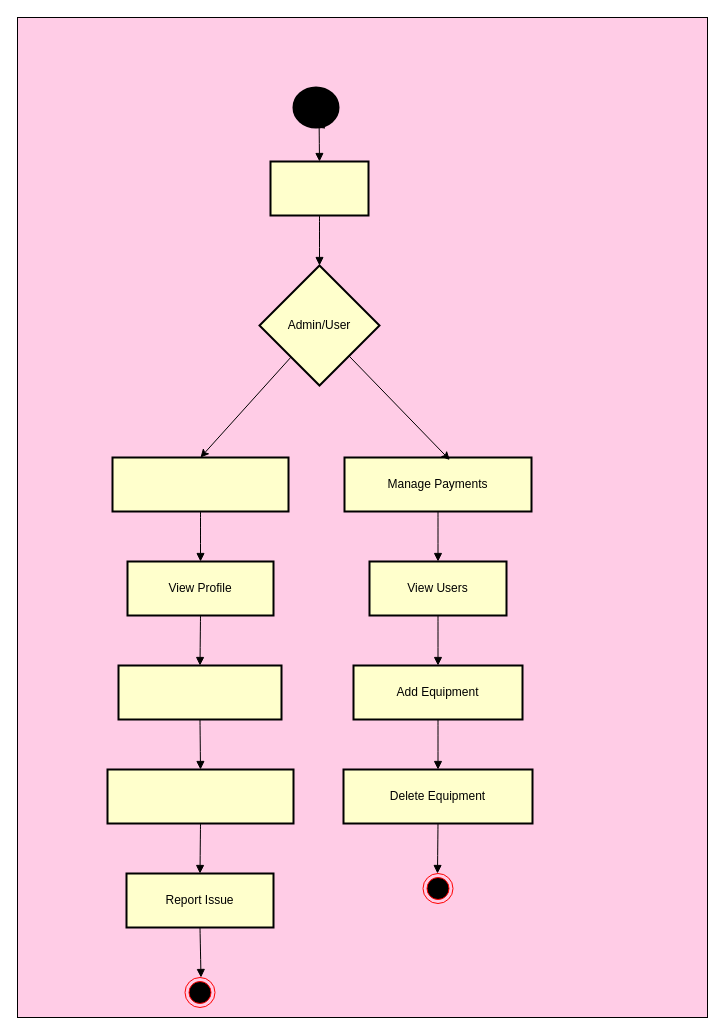
Some shapes in this 725 by 1035 pixel diagram are drawn without their labels. The shapes that lost their labels are listed below. From the top down, each one's box as (x1, y1, x2, y2) in pixels, then its label:
(269, 160, 369, 216): Login
(111, 456, 289, 512): View Equipment
(117, 664, 282, 720): Make Payment
(106, 768, 294, 824): Provide Feedback
